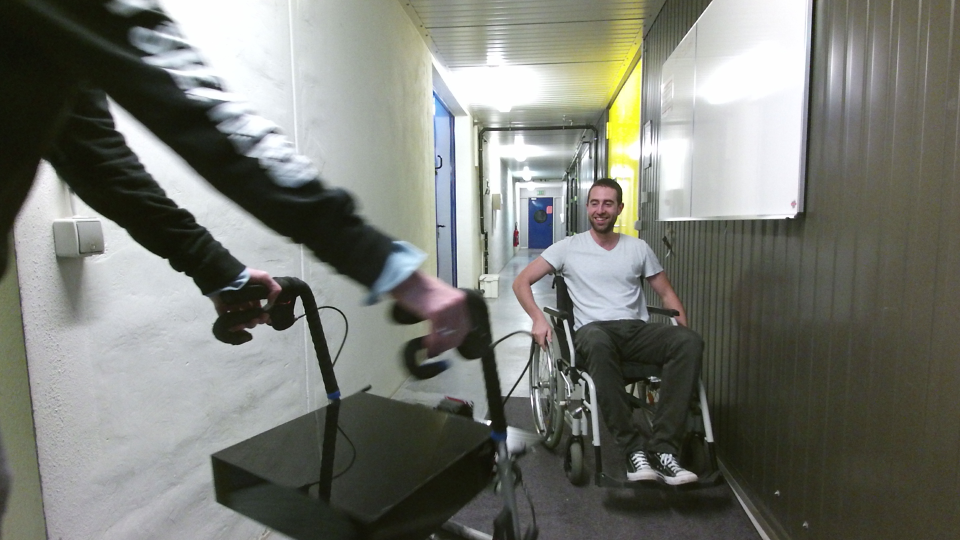wheelchair: (517, 173, 735, 505)
